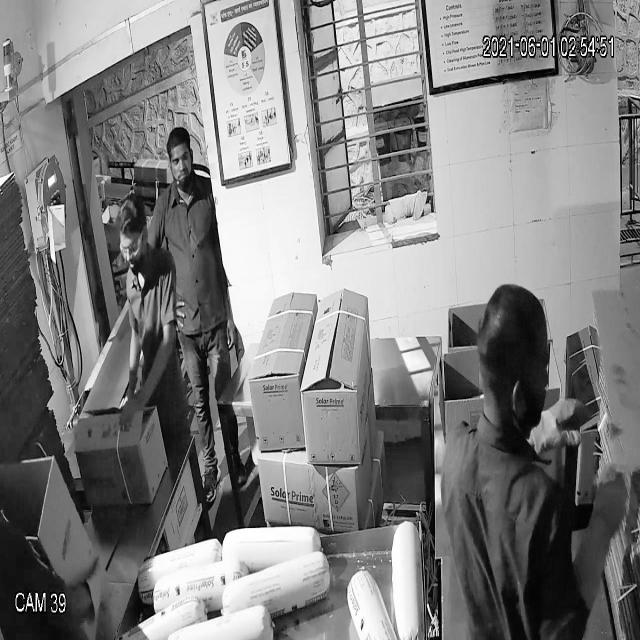glasses: (116, 227, 153, 263)
